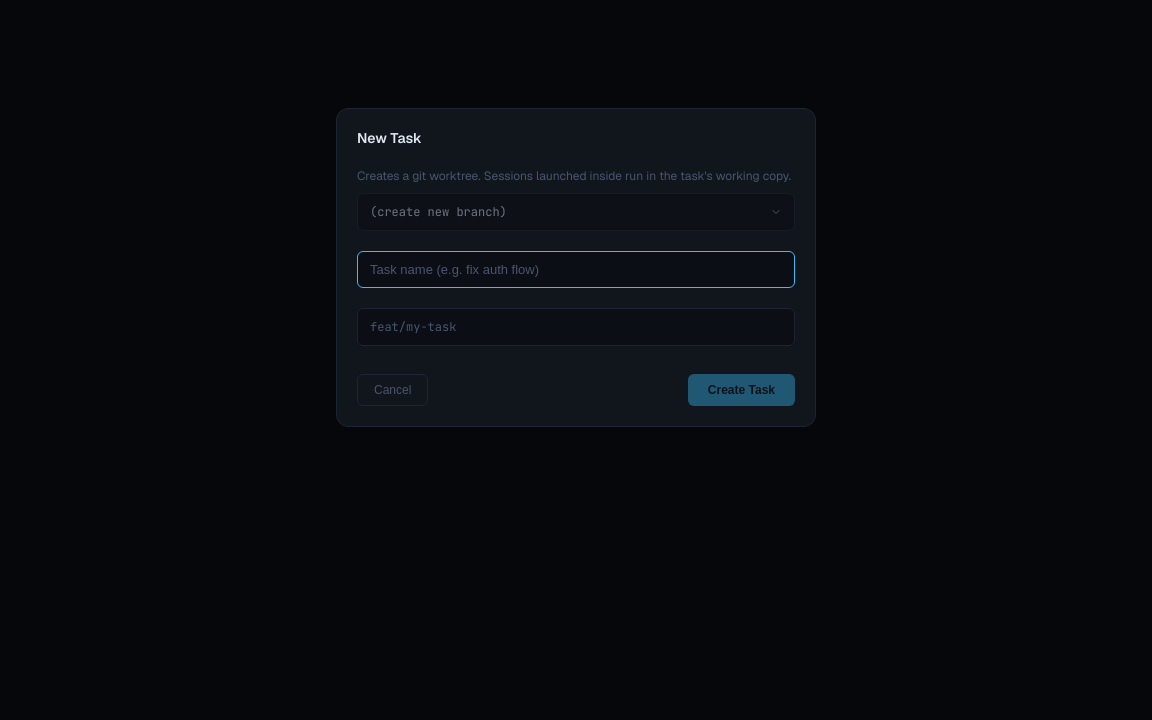
TaskCreateModal › transliterates non-Latin task names when auto-filling branch
In the field with placeholder "Task name (e.g. fix auth flow)": (576, 270) [357,251,795,288], type "Исправить нотификации"
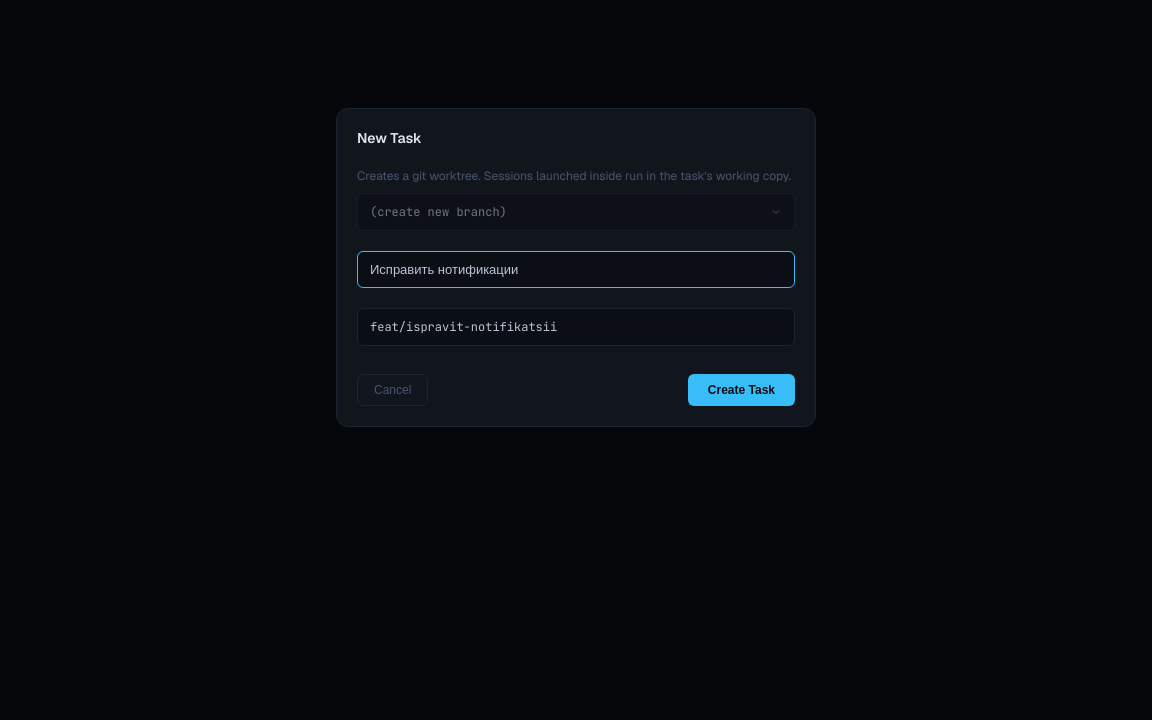
Now the 2nd field with placeholder "feat/my-task" holds "feat/ispravit-notifikatsii", box [357,308,795,346]
Replace the text in the 1st field with placeholder "Task name (e.g. fix auth flow)" with "Café résumé": (576, 270) [357,251,795,288]
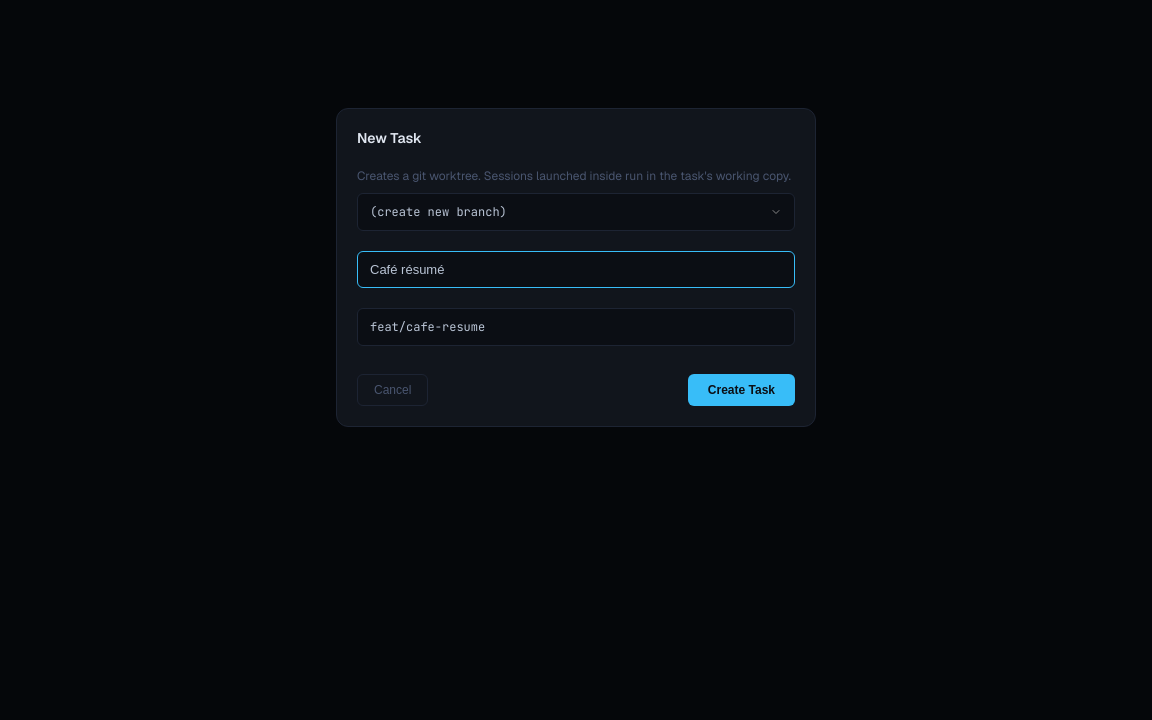
Now the 2nd field with placeholder "feat/my-task" holds "feat/cafe-resume", box [357,308,795,346]
